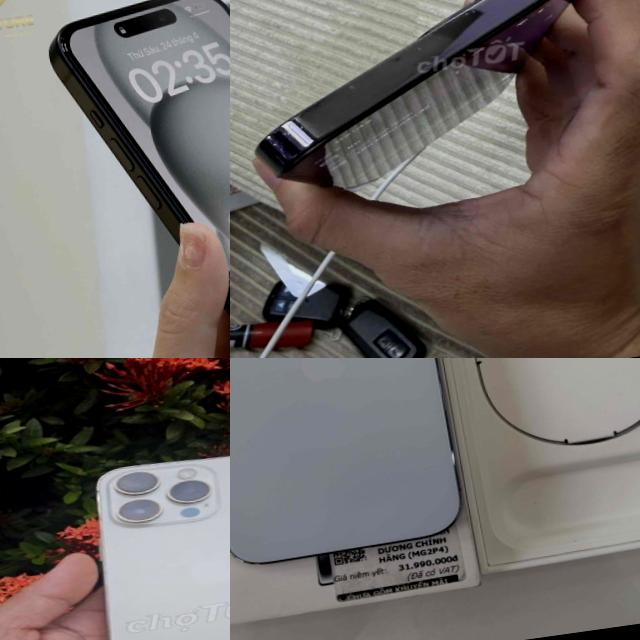gen_14: (257, 0, 572, 189), (70, 434, 230, 640)
gen_15: (34, 0, 230, 358)
gen_17: (230, 358, 485, 580)
scratch: (388, 6, 486, 56), (258, 111, 339, 164), (343, 78, 370, 96)
